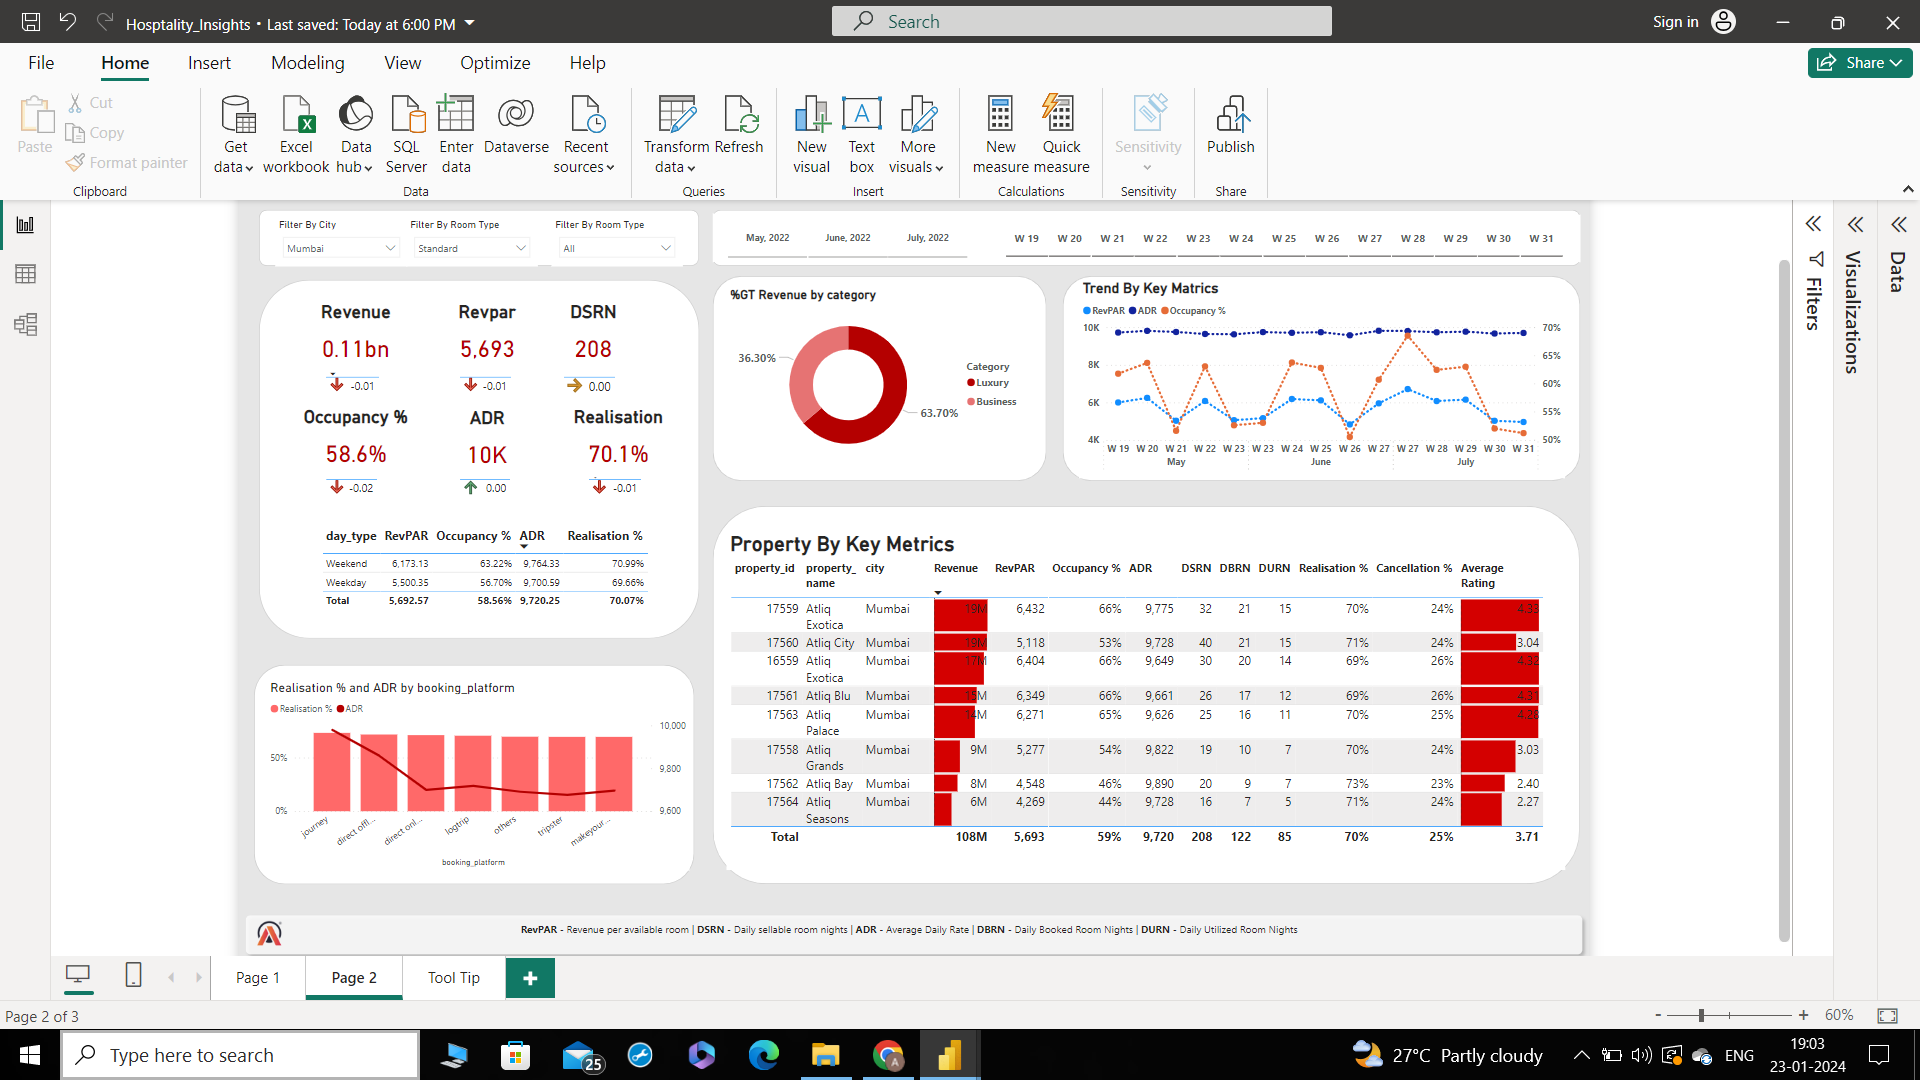

The dashboard page shown, as its layout file describes it:
{"tool":"powerbi","page":{"name":"Page 2","canvas":[1800,1100],"ordinal":1},"visuals":[{"type":"shape","box":[0,1016,1800,70],"z":0},{"type":"shape","box":[20,691.4,587.1,292.9],"z":1000},{"type":"shape","box":[632,480,1156,504],"z":2000},{"type":"shape","box":[1098.3,173.3,690,273.3],"z":3000},{"type":"shape","box":[631.7,173.3,445,273.3],"z":4000},{"type":"shape","box":[631.7,85,1156.7,75],"z":5000},{"type":"shape","box":[27.1,178.6,587.1,478.6],"z":6000},{"type":"shape","box":[26.7,85,586.7,75],"z":7000},{"type":"tableEx","title":"Property By Key Metrics","fields":{"Values":["dim_hotels.property_id","dim_hotels.property_name","dim_hotels.city","key_measures (2).Revenue","key_measures (2).RevPAR","key_measures (2).Occupancy %","key_measures (2).ADR","key_measures (2).DSRN","key_measures (2).DBRN","key_measures (2).DURN","key_measures (2).Realisation %","key_measures (2).Cancellation %"]},"box":[650,515.7,1118.6,450],"z":8000},{"type":"slicer","title":"Filter By City","fields":{"Values":["dim_hotels.city"]},"box":[48,96,176,64],"z":9000},{"type":"slicer","title":"Filter By Room Type","fields":{"Values":["dim_rooms.room_class"]},"box":[417,96,175,64],"z":10000},{"type":"slicer","fields":{"Values":["dim_date.mmm yy"]},"box":[631.7,90,358.3,65],"z":11000},{"type":"slicer","fields":{"Values":["dim_date.week no"]},"box":[996.7,91.7,791.7,63.3],"z":12000},{"type":"tableEx","fields":{"Values":["key_measures (2).\"Revenue WoW change %"]},"box":[110.8,281.5,88.5,57.7],"z":13000},{"type":"donutChart","fields":{"Category":["dim_hotels.category"],"Y":["key_measures (2).Revenue"]},"box":[650,188.3,405,241.7],"z":14000},{"type":"lineStackedColumnComboChart","fields":{"Category":["fact_bookings.booking_platform"],"Y":["key_measures (2).Realisation %"],"Y2":["key_measures (2).ADR"]},"box":[37.1,711.4,564.3,254.3],"z":15000},{"type":"lineChart","title":"Trend By Key Matrics","fields":{"Category":["dim_date.mmm yy.Variation.Date Hierarchy.Month","dim_date.week no"],"Y2":["key_measures (2).Occupancy %"],"Y":["key_measures (2).RevPAR","key_measures (2).ADR"]},"box":[1120,178.3,648.3,265],"z":16000},{"type":"tableEx","fields":{"Values":["dim_date.day_type","key_measures (2).RevPAR","key_measures (2).Occupancy %","key_measures (2).ADR","key_measures (2).Realisation %"]},"box":[105,500,455,126.7],"z":17000},{"type":"slicer","title":"Filter By Room Type","fields":{"Values":["dim_rooms.room_class"]},"box":[224,96,175,64],"z":18000},{"type":"image","box":[0,1028,81.3,42.7],"z":20000},{"type":"textbox","box":[345,1029.6,1093.6,39],"z":21000},{"type":"tableEx","fields":{"Values":["key_measures (2).\"DSRN WoW change %"]},"box":[426.9,281.5,88.5,56.2],"z":22000},{"type":"tableEx","fields":{"Values":["key_measures (2).\"Revpar WoW change %"]},"box":[287.7,281.5,89.2,55.4],"z":23000},{"type":"card","title":"DSRN","fields":{"Values":["key_measures (2).DSRN"]},"box":[384.3,206.8,175,95],"z":24000},{"type":"card","title":"Revpar","fields":{"Values":["key_measures (2).RevPAR"]},"box":[242.7,206.5,175,95],"z":25000},{"type":"card","title":"Revenue","fields":{"Values":["key_measures (2).Revenue"]},"box":[67.7,206.5,175,95],"z":26000},{"type":"tableEx","fields":{"Values":["key_measures (2).\"Occupancy WoW change %"]},"box":[110.8,417.7,88.5,57.7],"z":27000},{"type":"card","title":"Occupancy %","fields":{"Values":["key_measures (2).Occupancy %"]},"box":[67.7,347.5,175,95],"z":28000},{"type":"tableEx","fields":{"Values":["key_measures (2).\"ADR WoW change %"]},"box":[287.7,417.7,88.5,57.7],"z":29000},{"type":"tableEx","fields":{"Values":["key_measures (2).\"Revenue WoW change %"]},"box":[460,418.5,88.5,57.7],"z":30000},{"type":"card","title":"ADR","fields":{"Values":["key_measures (2).ADR"]},"box":[242.7,348.5,175,95],"z":31000},{"type":"card","title":"Realisation","fields":{"Values":["key_measures (2).Realisation %"]},"box":[417.7,347.5,175,95],"z":31500}]}

Visuals, with their boxes on the page's 1800x1100 design canvas (x1, y1, x2, y2). These are canvas units, not pixel positions in the 1920x1080 screenshot, which may show the page scaled, cropped or inside an application window:
shape: (left=0, top=1016, right=1800, bottom=1086)
shape: (left=20, top=691, right=607, bottom=984)
shape: (left=632, top=480, right=1788, bottom=984)
shape: (left=1098, top=173, right=1788, bottom=447)
shape: (left=632, top=173, right=1077, bottom=447)
shape: (left=632, top=85, right=1788, bottom=160)
shape: (left=27, top=179, right=614, bottom=657)
shape: (left=27, top=85, right=613, bottom=160)
"Property By Key Metrics" tableEx: (left=650, top=516, right=1769, bottom=966)
"Filter By City" slicer: (left=48, top=96, right=224, bottom=160)
"Filter By Room Type" slicer: (left=417, top=96, right=592, bottom=160)
slicer - dim_date.mmm yy: (left=632, top=90, right=990, bottom=155)
slicer - dim_date.week no: (left=997, top=92, right=1788, bottom=155)
tableEx - key_measures (2)."Revenue WoW change %: (left=111, top=282, right=199, bottom=339)
donutChart - dim_hotels.category x key_measures (2).Revenue: (left=650, top=188, right=1055, bottom=430)
lineStackedColumnComboChart - fact_bookings.booking_platform x key_measures (2).Realisation %: (left=37, top=711, right=601, bottom=966)
"Trend By Key Matrics" lineChart: (left=1120, top=178, right=1768, bottom=443)
tableEx - dim_date.day_type x key_measures (2).RevPAR: (left=105, top=500, right=560, bottom=627)
"Filter By Room Type" slicer: (left=224, top=96, right=399, bottom=160)
image: (left=0, top=1028, right=81, bottom=1071)
textbox: (left=345, top=1030, right=1439, bottom=1069)
tableEx - key_measures (2)."DSRN WoW change %: (left=427, top=282, right=515, bottom=338)
tableEx - key_measures (2)."Revpar WoW change %: (left=288, top=282, right=377, bottom=337)
"DSRN" card: (left=384, top=207, right=559, bottom=302)
"Revpar" card: (left=243, top=206, right=418, bottom=302)
"Revenue" card: (left=68, top=206, right=243, bottom=302)
tableEx - key_measures (2)."Occupancy WoW change %: (left=111, top=418, right=199, bottom=475)
"Occupancy %" card: (left=68, top=348, right=243, bottom=442)
tableEx - key_measures (2)."ADR WoW change %: (left=288, top=418, right=376, bottom=475)
tableEx - key_measures (2)."Revenue WoW change %: (left=460, top=418, right=548, bottom=476)
"ADR" card: (left=243, top=348, right=418, bottom=444)
"Realisation" card: (left=418, top=348, right=593, bottom=442)
